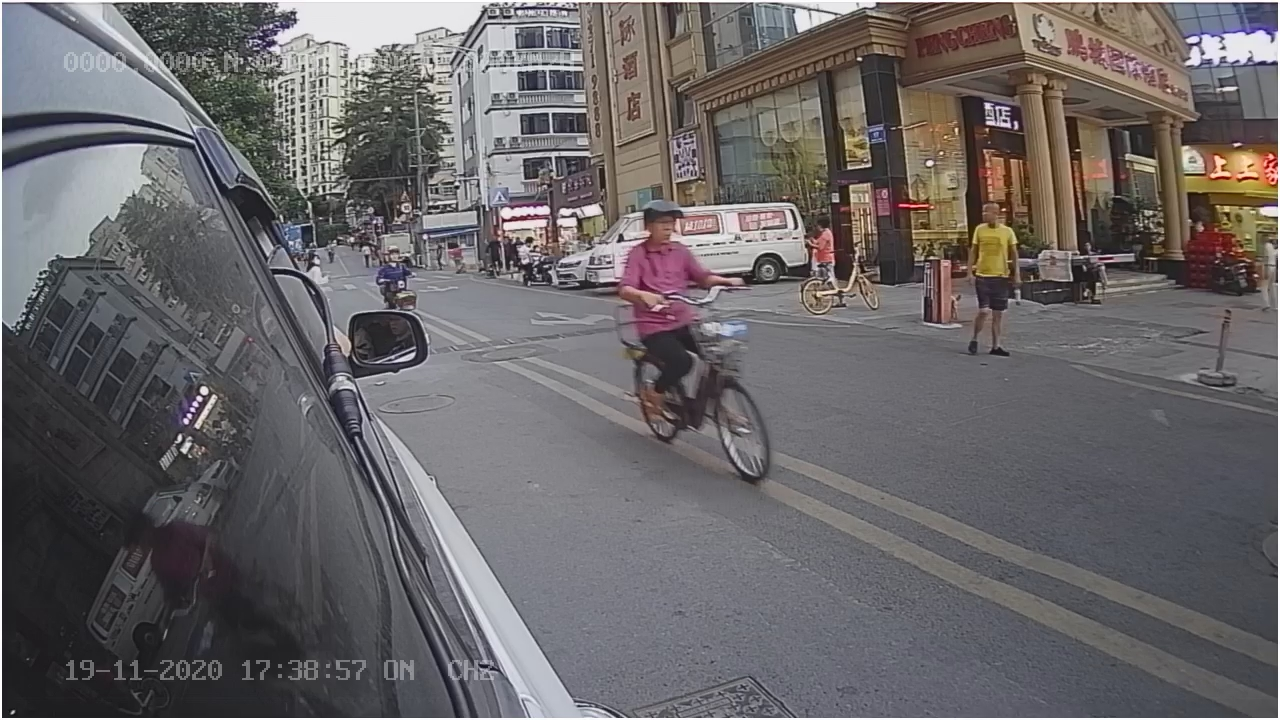person: (623, 196, 723, 340), (952, 197, 1025, 358)
